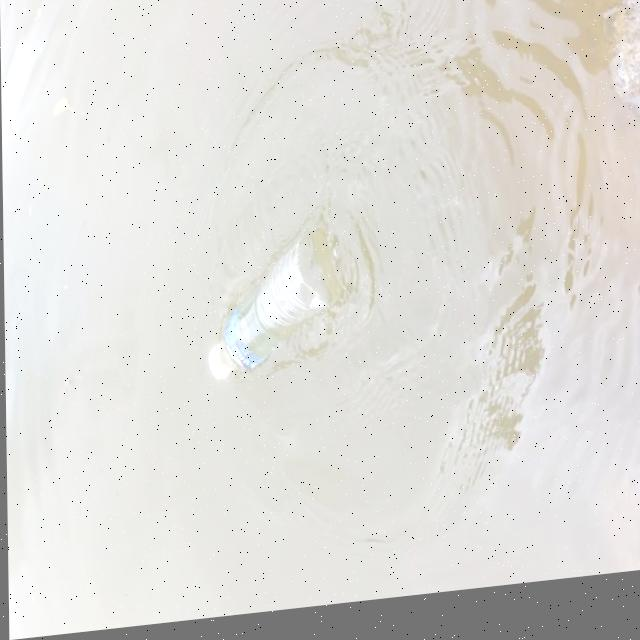waterbottle: (170, 195, 387, 419)
